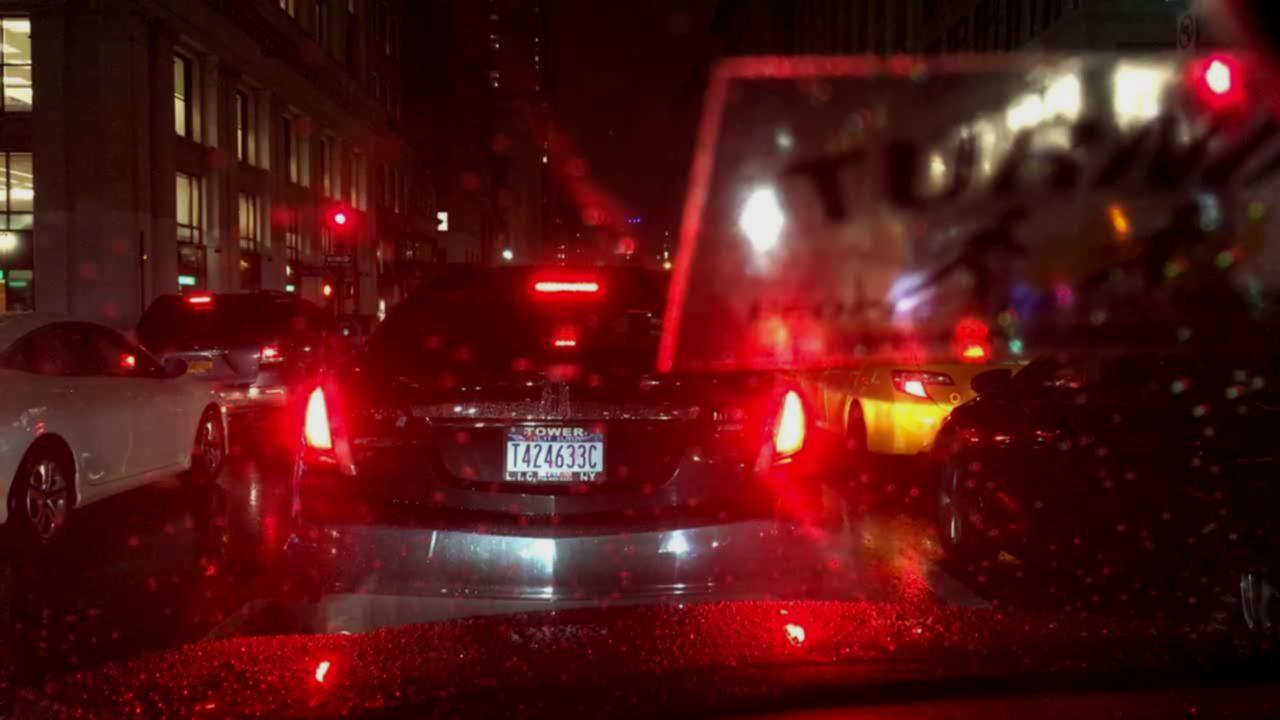lincoln: (544, 378, 570, 418)
